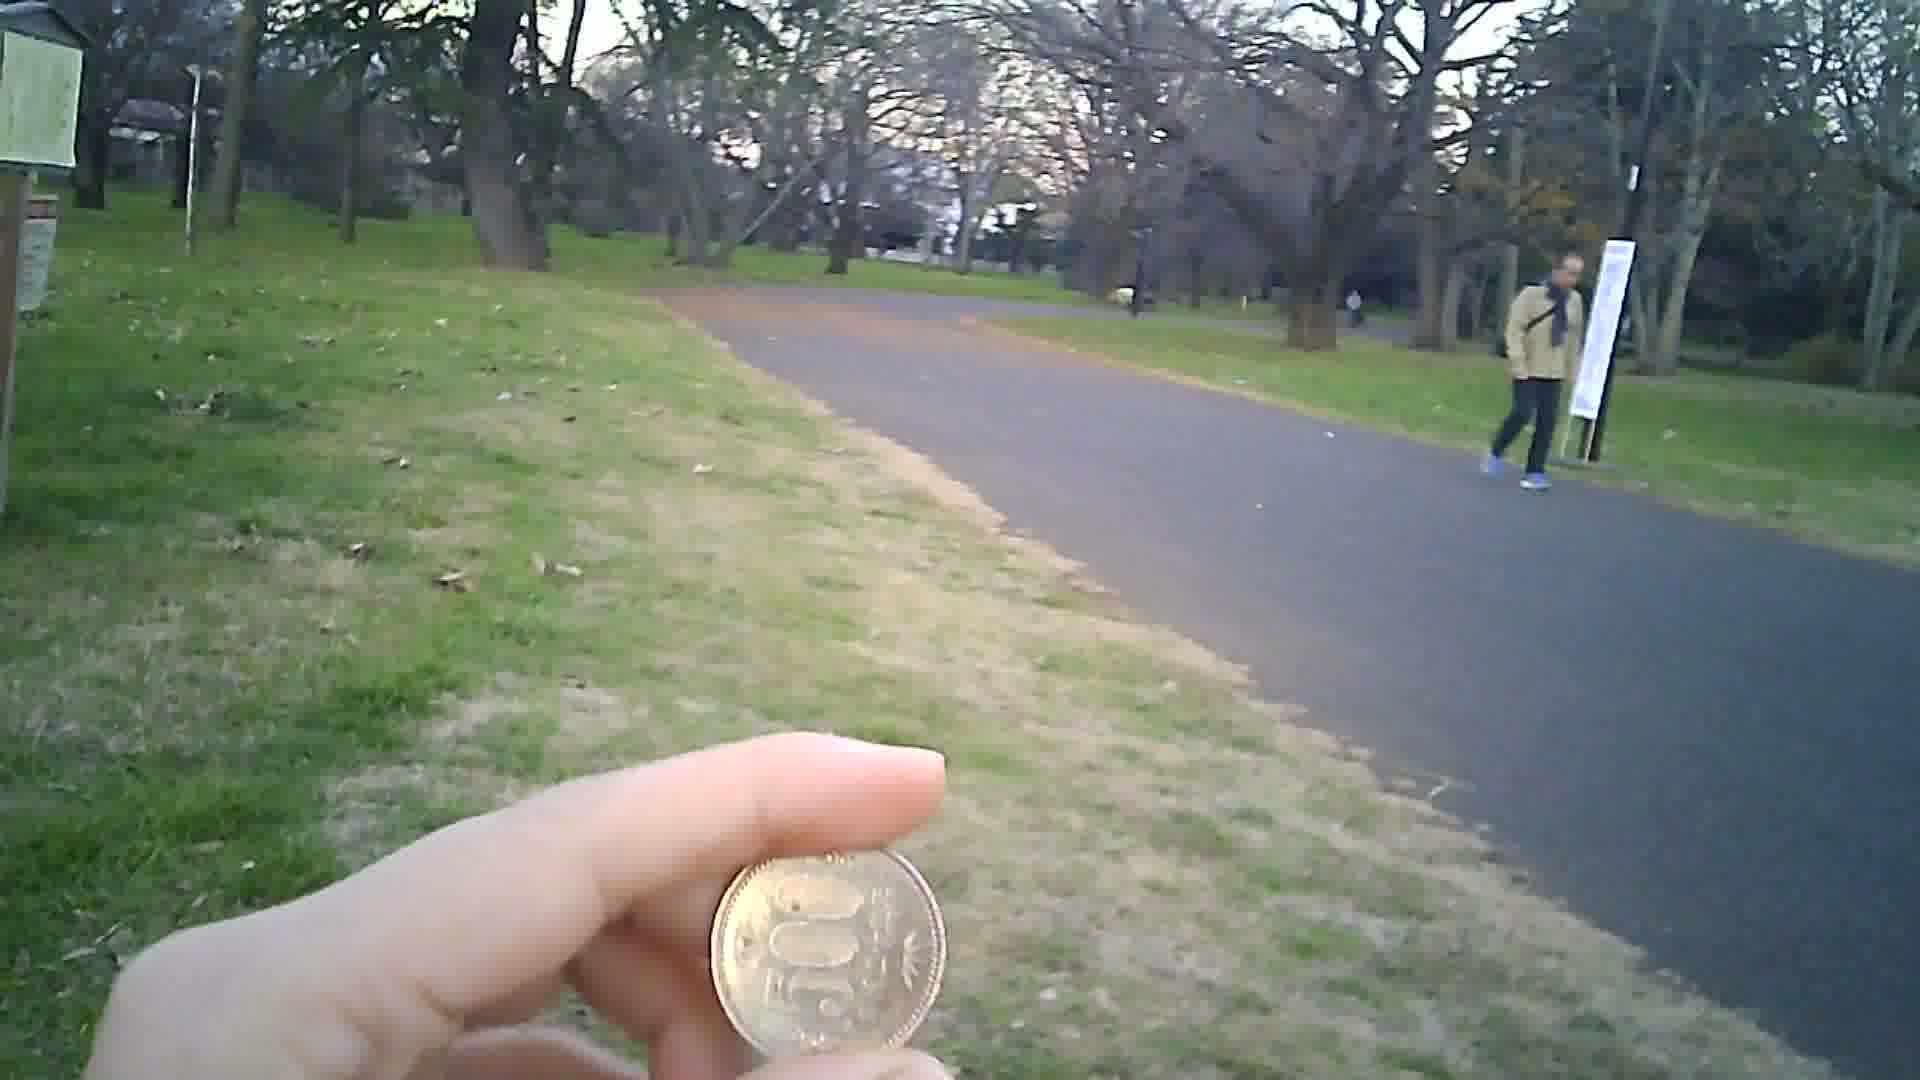500 Yen: (703, 815, 963, 1079)
